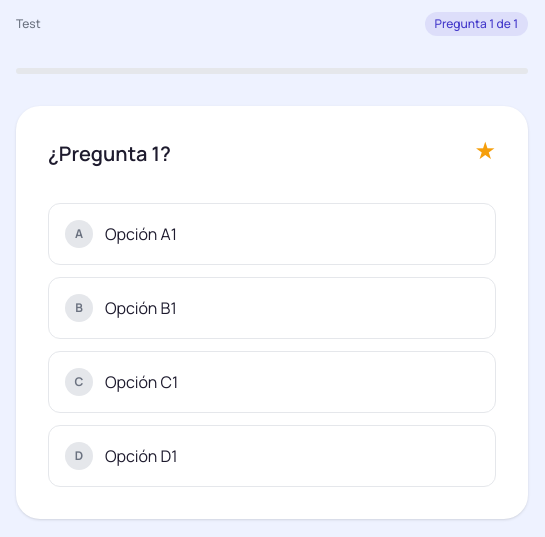
Test: TestRunner — estrella de favoritas (solo con sesión) › desmarca al pulsar una estrella ya rellena
Click the button with test id "alternar-favorita" at (485, 150), box [474,138,496,162]
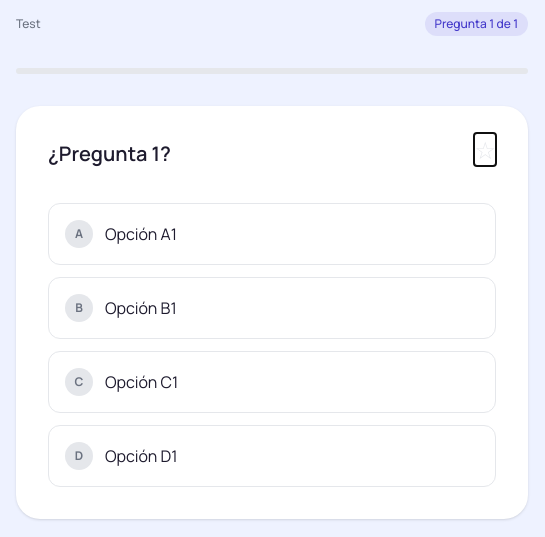
expect the button with test id "alternar-favorita" reads "☆": met, box [474,138,496,162]
